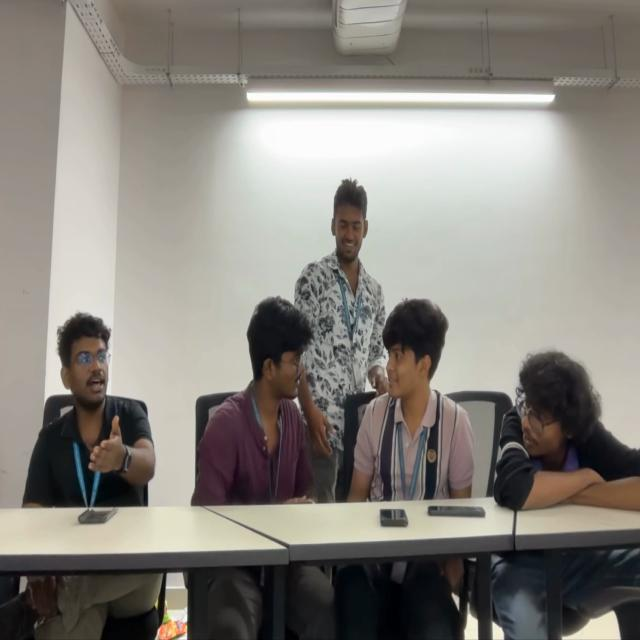Isolated: (22, 314, 156, 506), (496, 350, 640, 510)
socializing: (192, 177, 476, 500)
